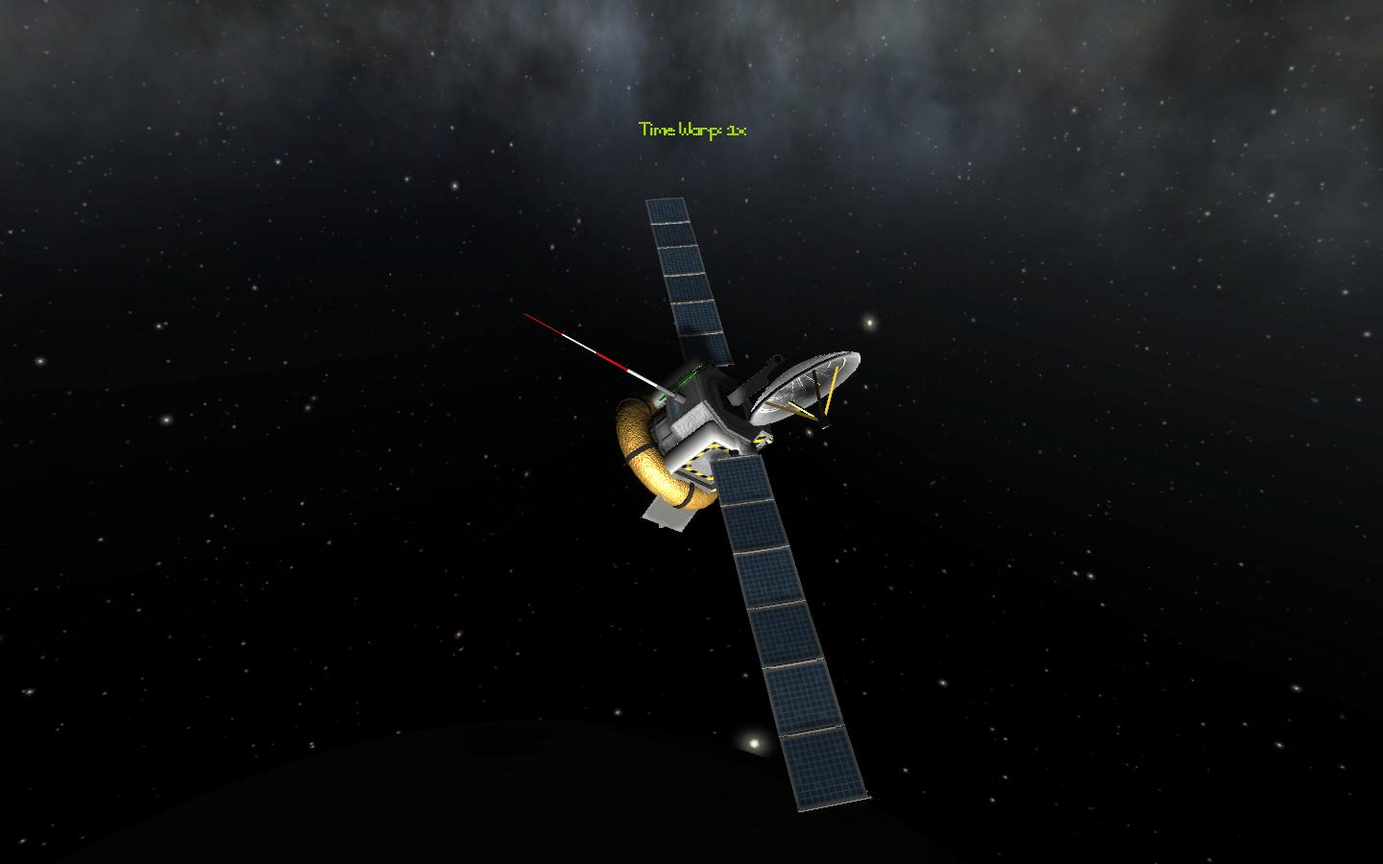antenna: (520, 308, 691, 406), (746, 347, 864, 434)
body: (611, 355, 777, 514)
solar: (708, 450, 881, 816), (643, 192, 739, 371)
